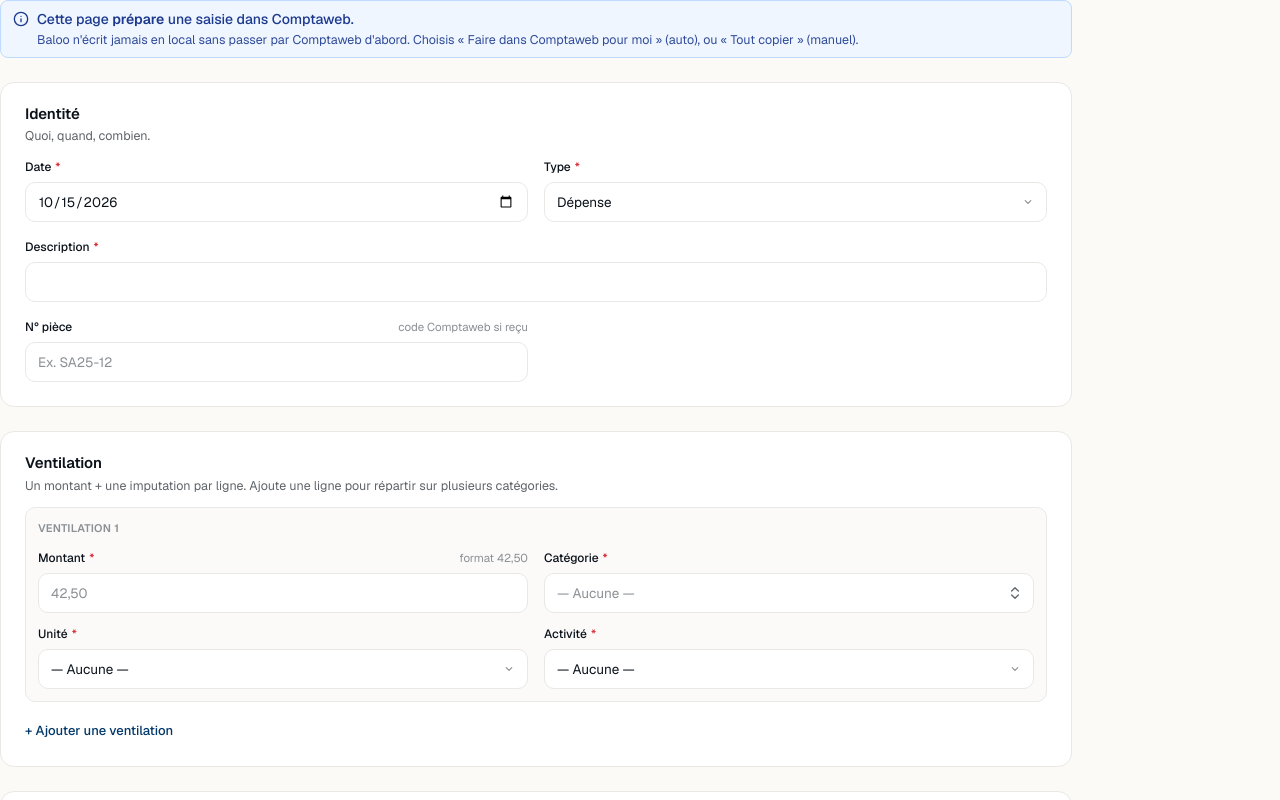
Test: NouvelleEcritureWizard — répéteur de ventilations › filtre les catégories du CategoryPicker selon le sens (dépense/recette) réactif au champ type
Click the dropdown named "Catégorie".
click(596, 593)  # box x1=544 y1=573 x2=1034 y2=613
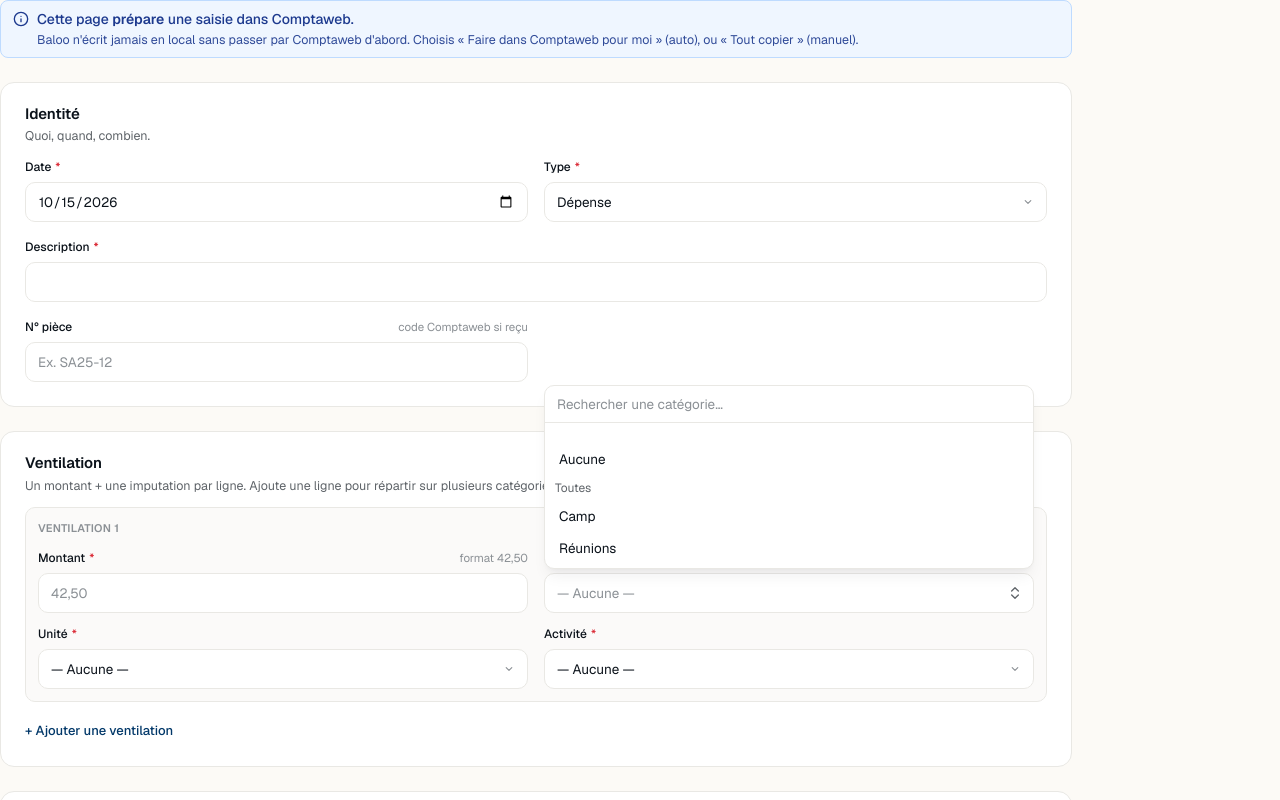
Expected: the text "Cotisations" is not shown
Expected: the option "Camp" is shown, x1=559 y1=506 x2=595 y2=524
Press Escape
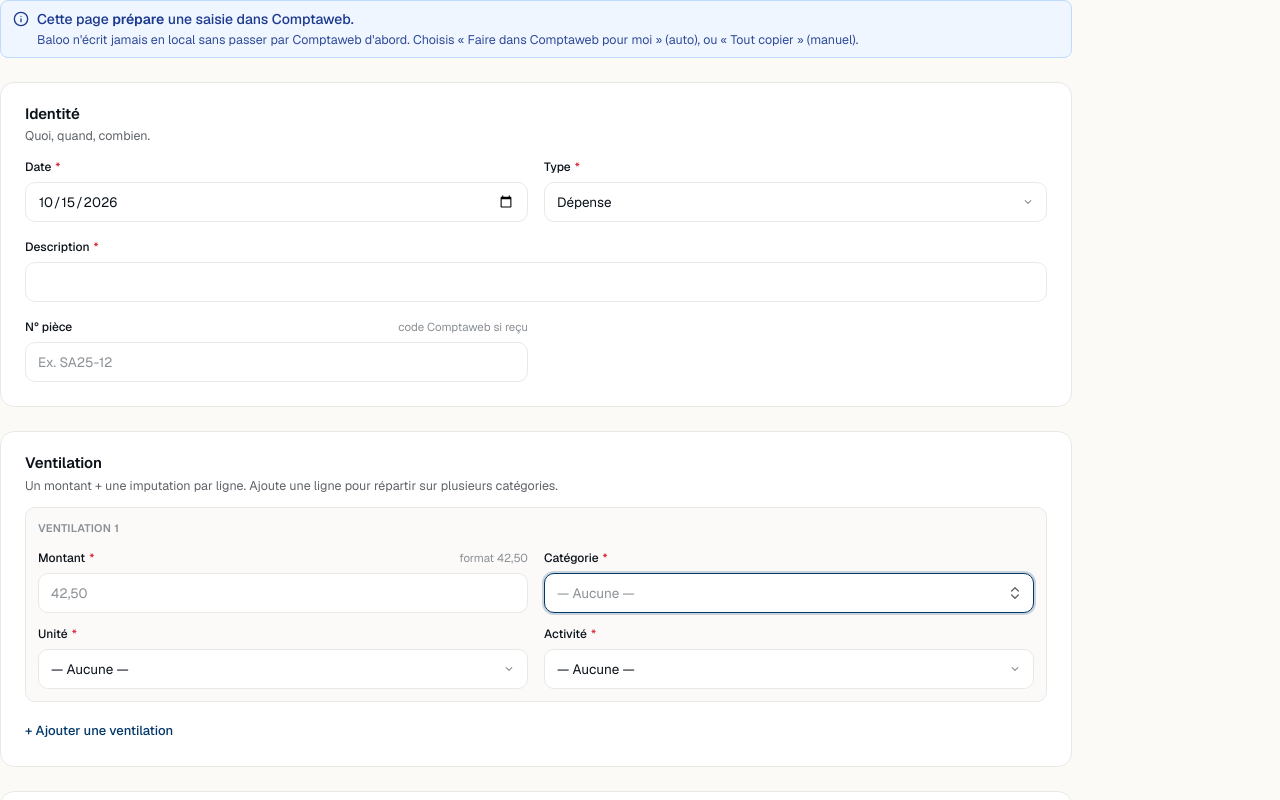
// Bascule le type en recette.
Select "Recette" in the dropdown labelled "Type" at (796, 202), box x1=544 y1=182 x2=1047 y2=222
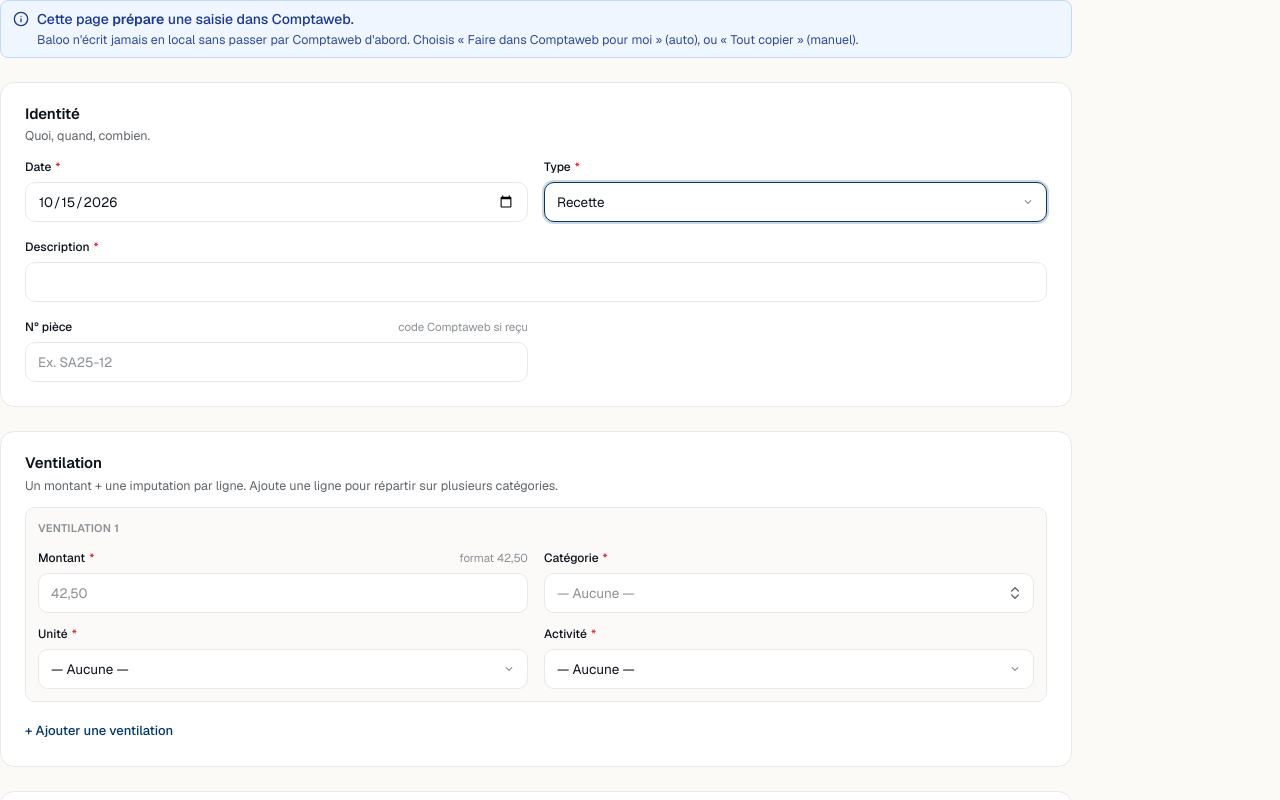
Click the dropdown named "Catégorie".
click(596, 593)  # box x1=544 y1=573 x2=1034 y2=613
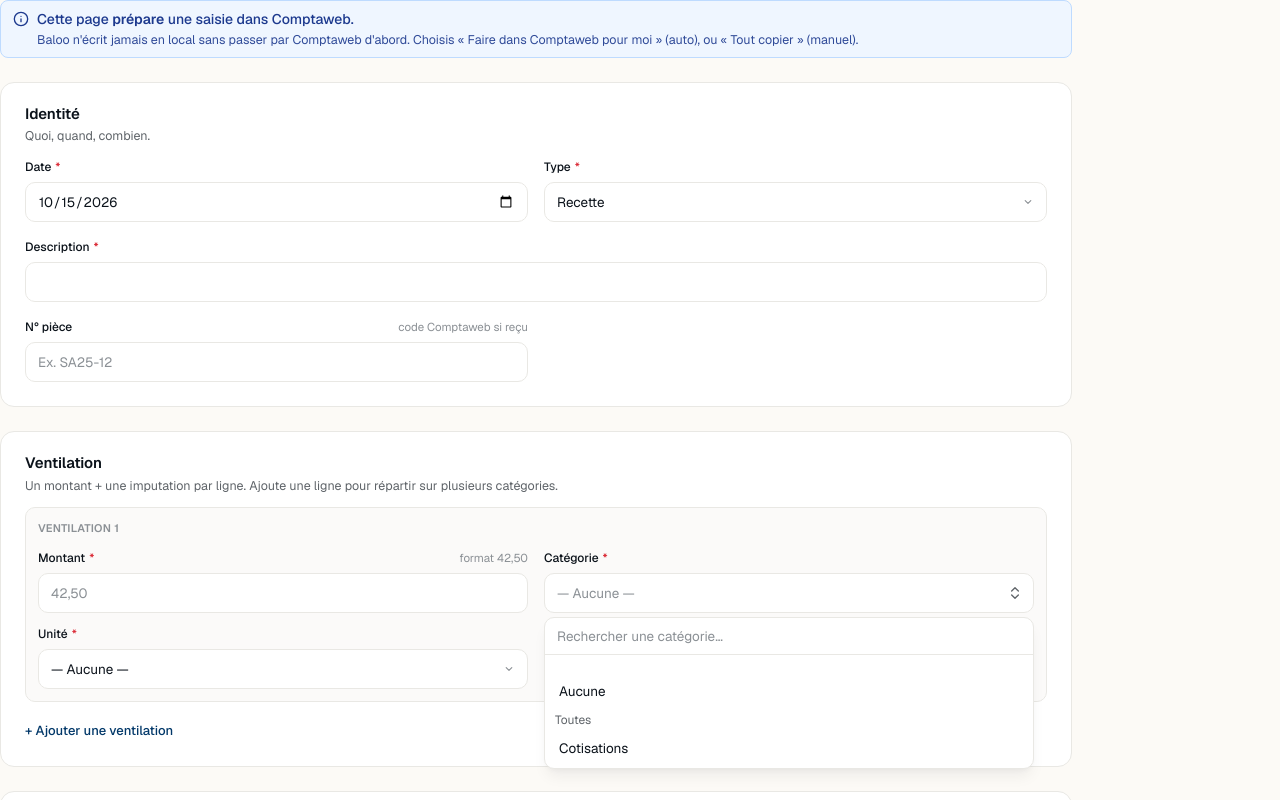
Expected: the option "Camp" is not shown
Expected: the option "Cotisations" is shown, x1=559 y1=738 x2=628 y2=756
